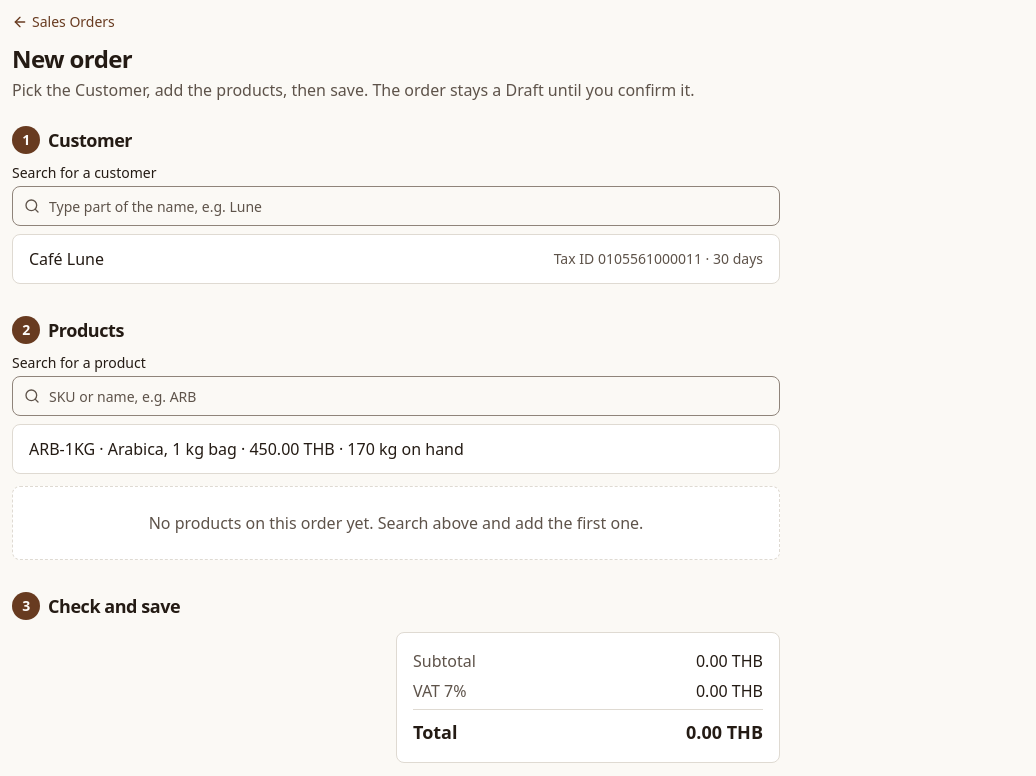
Test: New order › refuses quantity 0 with the same message as the server and adds nothing
Click the button "ARB-1KG · Arabica, 1 kg bag · 450.00 THB · 170 kg on hand".
click(396, 449)  # box [13,425,779,473]
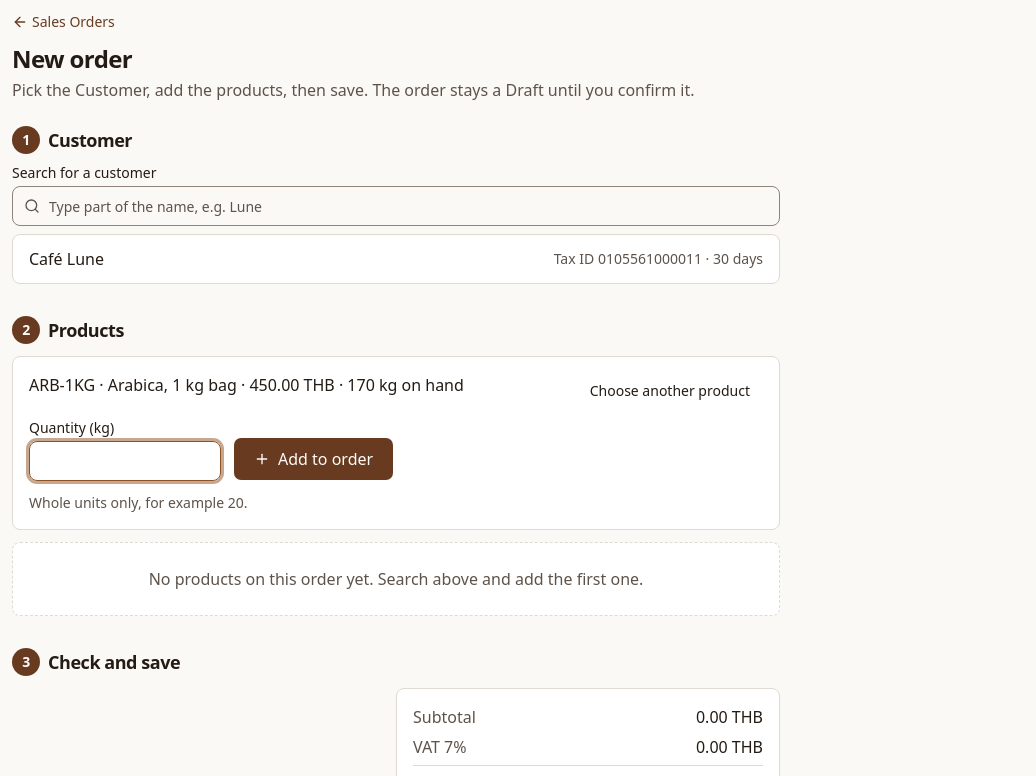
Type "0" into the field labelled "Quantity (kg)".
click(125, 461); type("0")  # box [29,441,221,481]
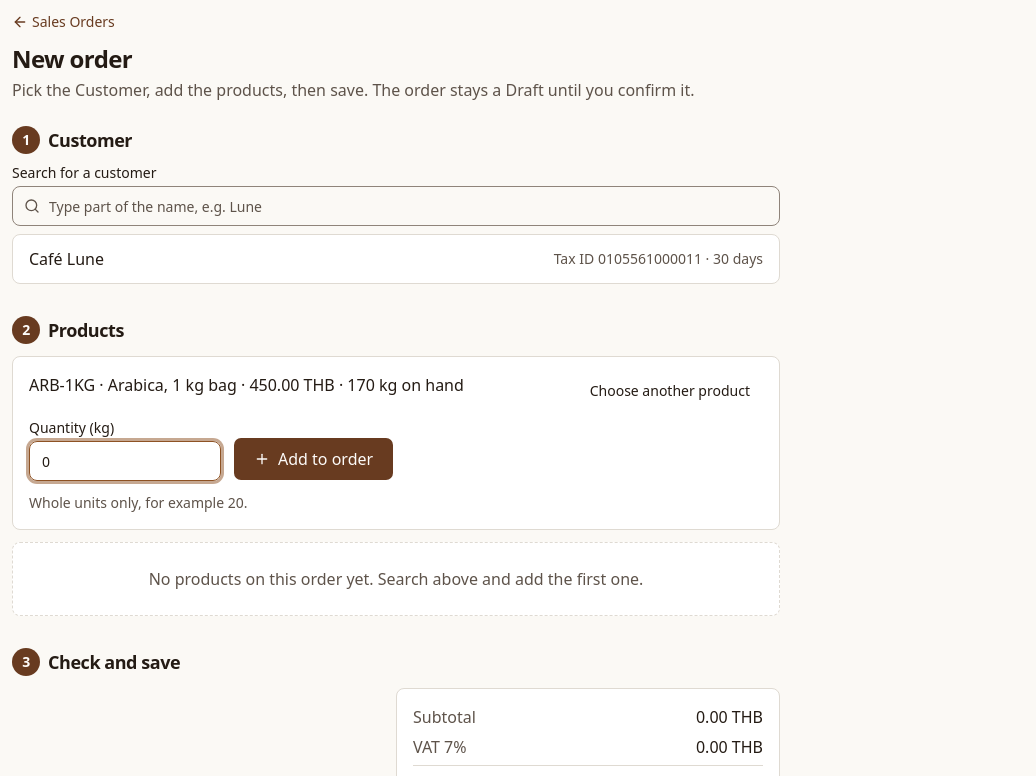
Click the button "Add to order".
click(314, 459)  # box [233,437,394,481]
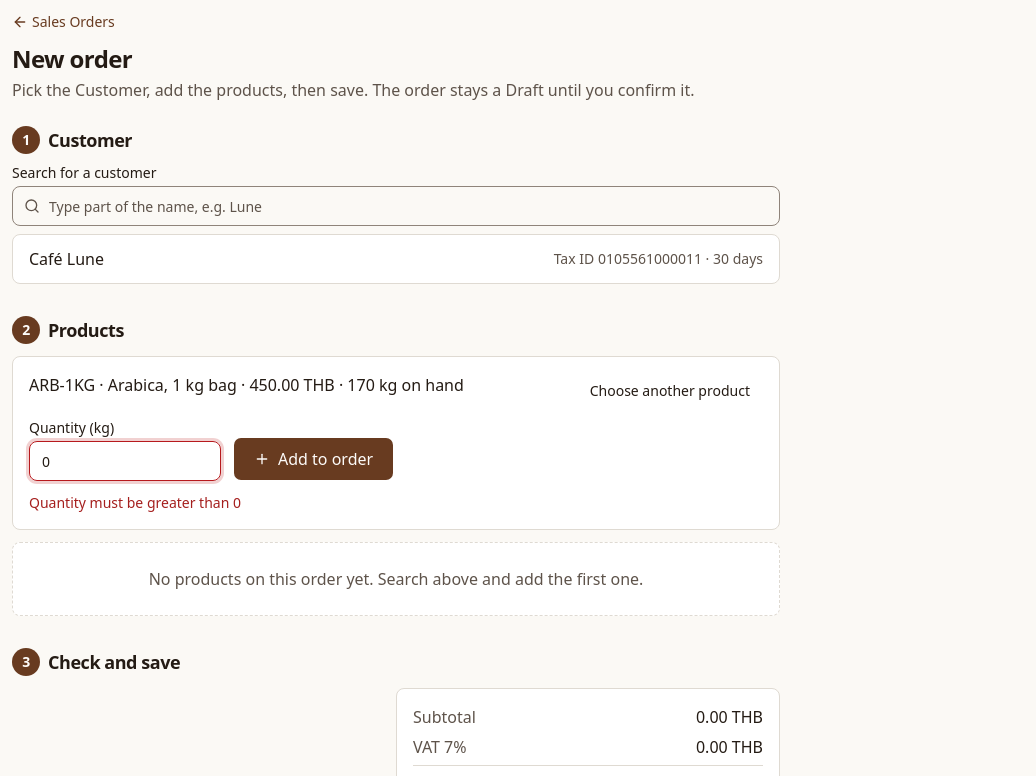
expect the text "Quantity must be greater than 0" is shown: met, box [29,493,241,512]
